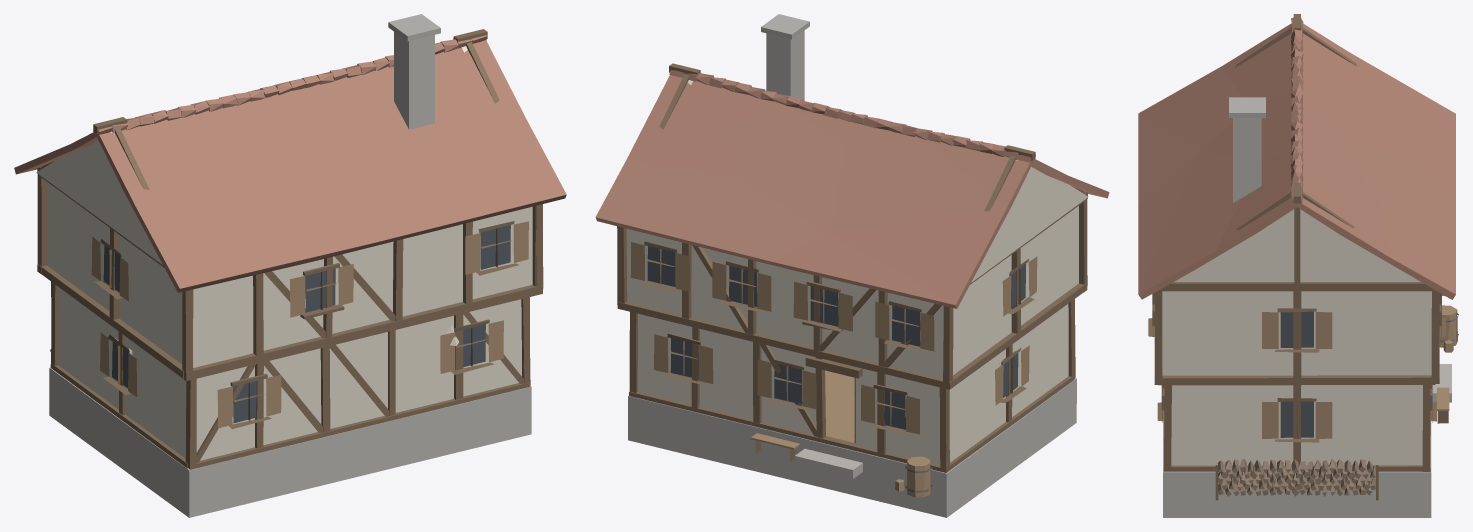
The model's file is house_b_lod1.glb.
3 renders of one model, left to right at view 1: azimuth 30°, elevation 25°; view 2: azimuth 150°, elevation 25°; view 3: azimuth 270°, elevation 25°, orthographic. The views are drawn at different scales.
Visible parts, largest first — view 1: house_b.001; view 2: house_b.001; view 3: house_b.001.
Part boxes in pixels (x1,y1,x2,y2): house_b.001: (14, 14, 566, 517); house_b.001: (595, 14, 1109, 517); house_b.001: (1138, 14, 1458, 517).
Size of the model in its own units: 11.7 by 11.31 by 8.67.
